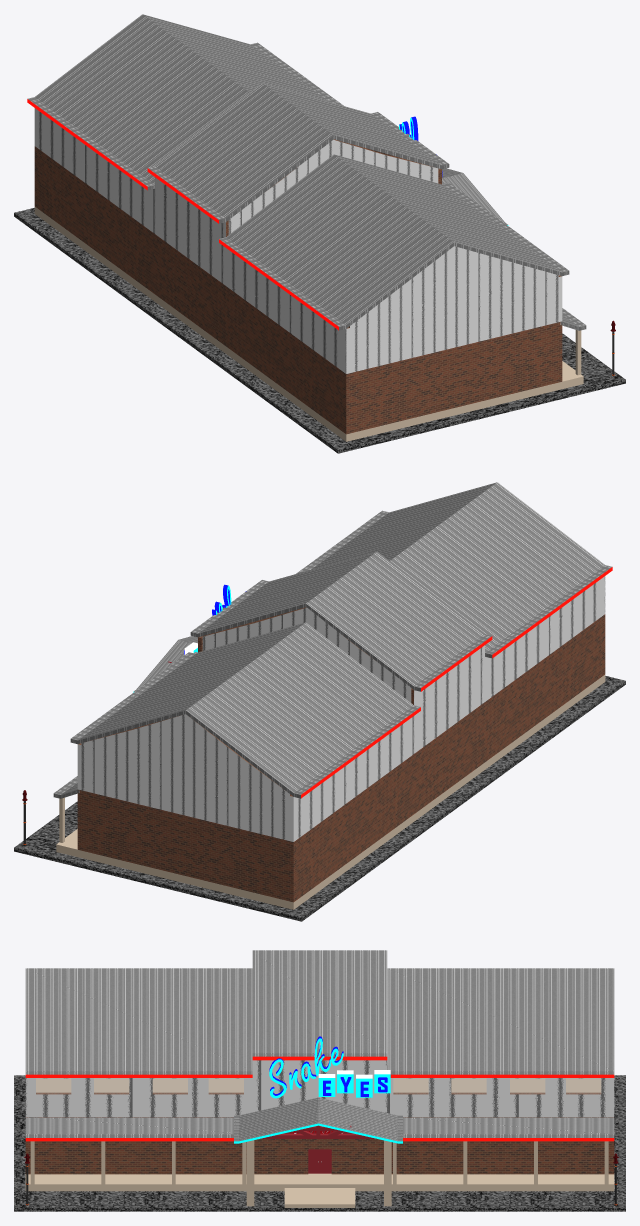
The model's file is Roadhouse.glb.
3 views of the same model, one above another, from view 1: azimuth 30°, elevation 25°; view 2: azimuth 150°, elevation 25°; view 3: azimuth 270°, elevation 25° (orthographic). The views are drawn at different scales.
Visible parts, largest first — view 1: Roof, Walls, Ground, Walls.001; view 2: Roof, Walls, Ground, Walls.001; view 3: Roof, Walls, Ground, Windows, Sign, Sign.001, Support.004, Support.003, Truss, Locked Doors, Support.001, Support.
Part boxes in pixels (box(x1,y1,x2,y2)): Roof: box(27, 14, 586, 330); Walls: box(34, 108, 562, 434); Ground: box(14, 206, 625, 453); Walls.001: box(228, 139, 438, 234); Roof: box(53, 482, 612, 798); Walls: box(77, 576, 605, 902); Ground: box(14, 674, 625, 921); Walls.001: box(202, 607, 411, 702); Roof: box(25, 950, 614, 1143); Walls: box(25, 1060, 614, 1174); Ground: box(14, 1075, 625, 1211); Windows: box(36, 1078, 600, 1093); Sign: box(318, 1070, 390, 1097); Sign.001: box(269, 1036, 343, 1098); Support.004: box(30, 1141, 246, 1184); Support.003: box(393, 1141, 608, 1184); Truss: box(260, 1125, 376, 1138); Locked Doors: box(308, 1149, 331, 1173); Support.001: box(246, 1140, 254, 1206); Support: box(384, 1140, 391, 1206).
Size of what is drawn, in the model's own units: 24.38 by 15.85 by 47.55.
Materials: 20 (4 with a texture image).
